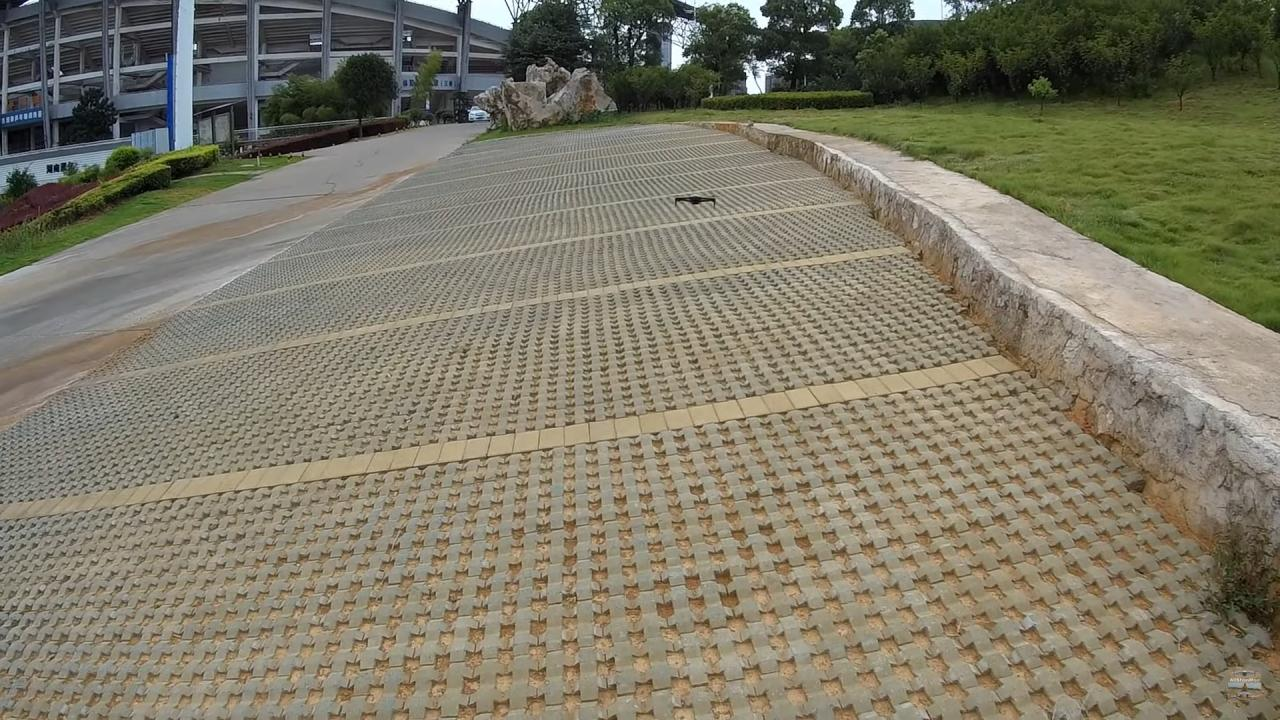Drone: (663, 183, 729, 217)
